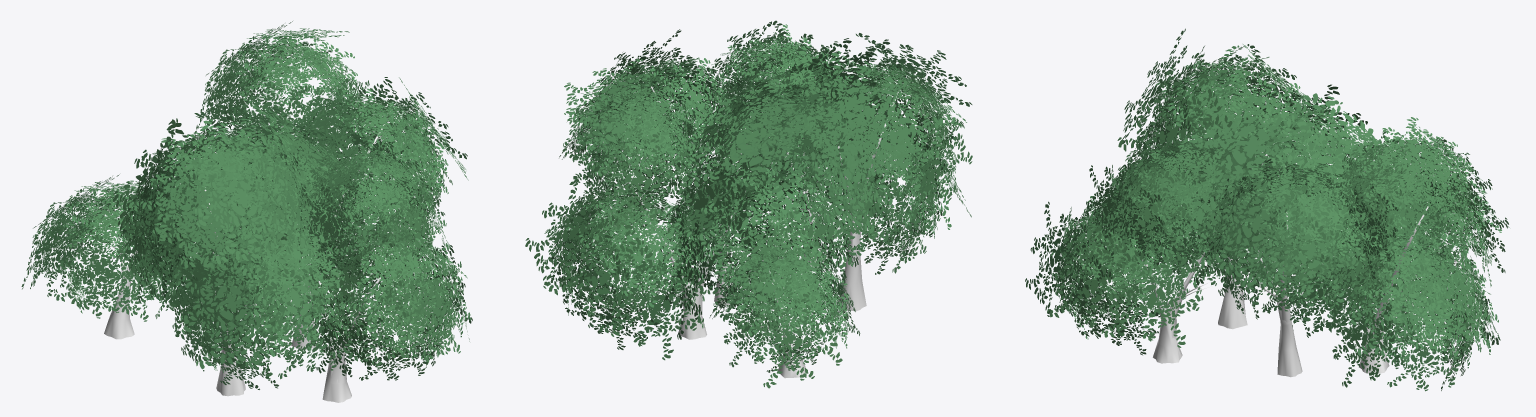
The model's file is LargeBush_HighNew.fbx.
3 views of the same model, side by side, from view 1: azimuth 30°, elevation 25°; view 2: azimuth 150°, elevation 25°; view 3: azimuth 270°, elevation 25° (orthographic). The views are drawn at different scales.
Visible parts, largest first — view 1: tree; view 2: tree; view 3: tree.
Boxes of the visible parts, left/top/right/bottom form: tree: left=21, top=21, right=472, bottom=402; tree: left=525, top=20, right=972, bottom=388; tree: left=1025, top=28, right=1509, bottom=391.
Size of the model in its own units: 387 by 289 by 455.
